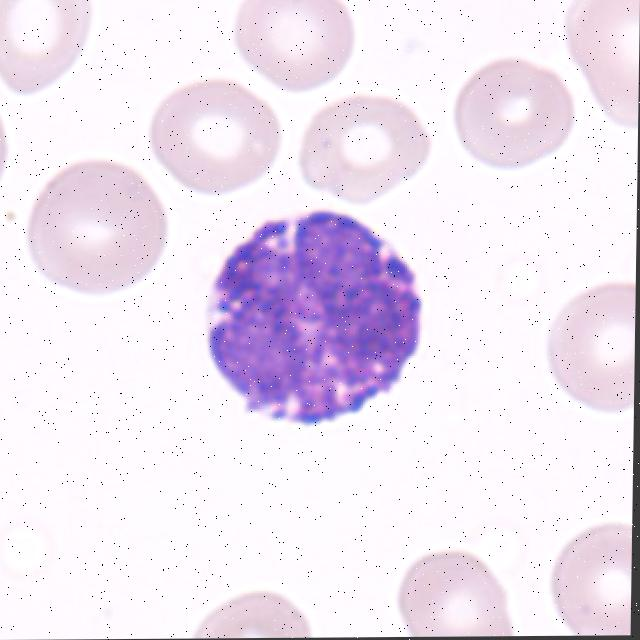basophil: (192, 209, 463, 433)
rbc: (24, 160, 188, 312), (154, 66, 284, 208), (293, 97, 442, 211), (454, 60, 582, 190), (539, 280, 636, 427), (548, 0, 640, 143), (233, 0, 362, 95), (383, 548, 513, 637), (0, 0, 101, 110), (544, 511, 632, 636), (177, 593, 313, 639)
